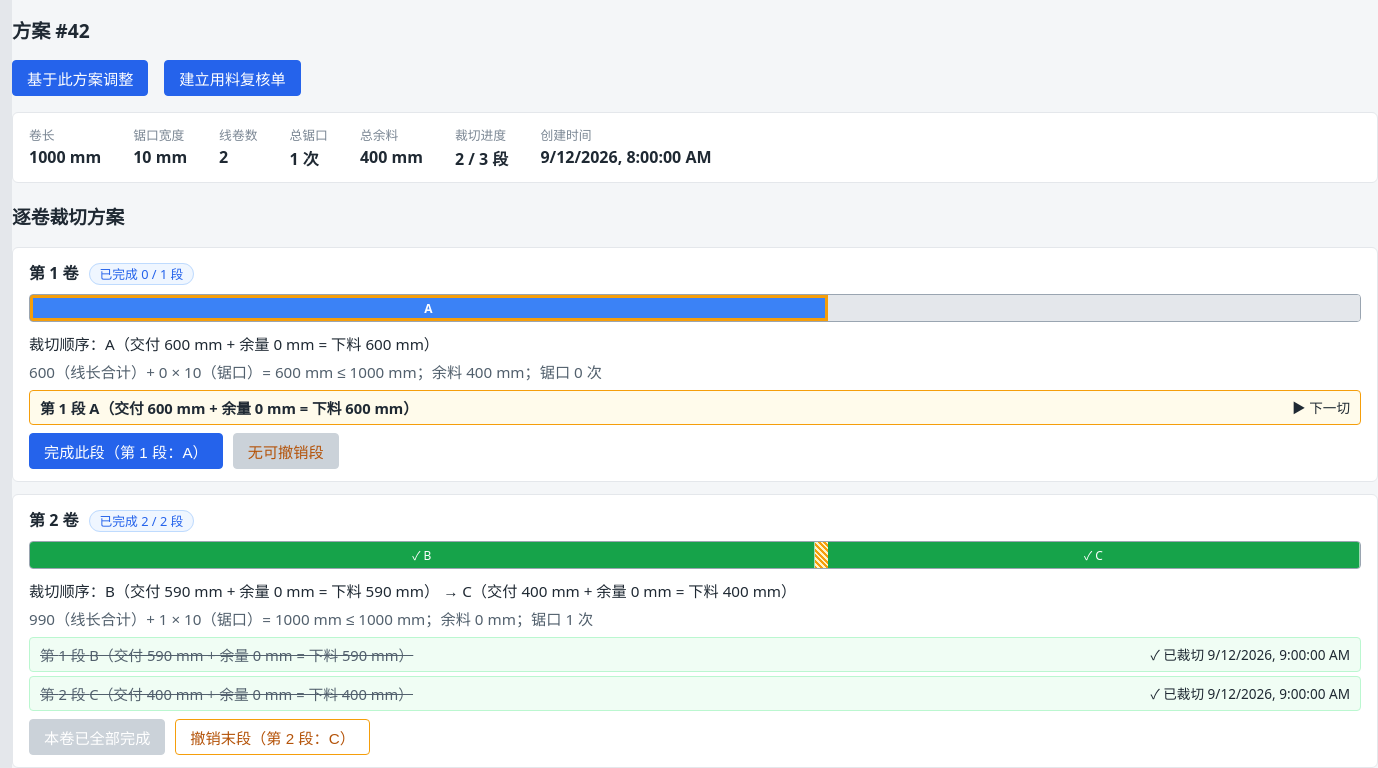
Test: PlanDetailPage progress flow › undoes only the last completed cut
This screenshot has width=1378, height=768.
Click the button with test id "undo-roll-2" at (273, 737), box left=175, top=719, right=370, bottom=755
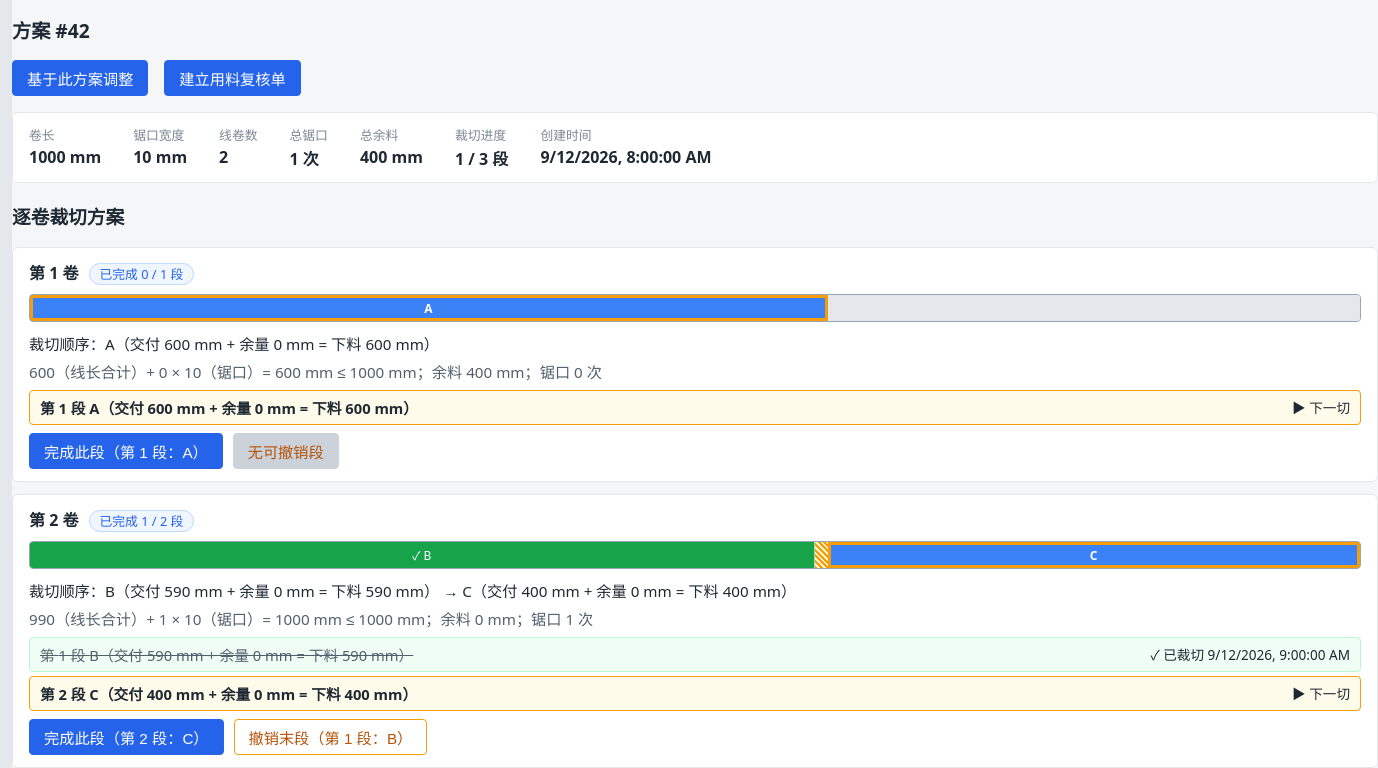
Result: the text with test id "roll-progress-2" reads "已完成 1 / 2 段" at left=88, top=510, right=194, bottom=532
